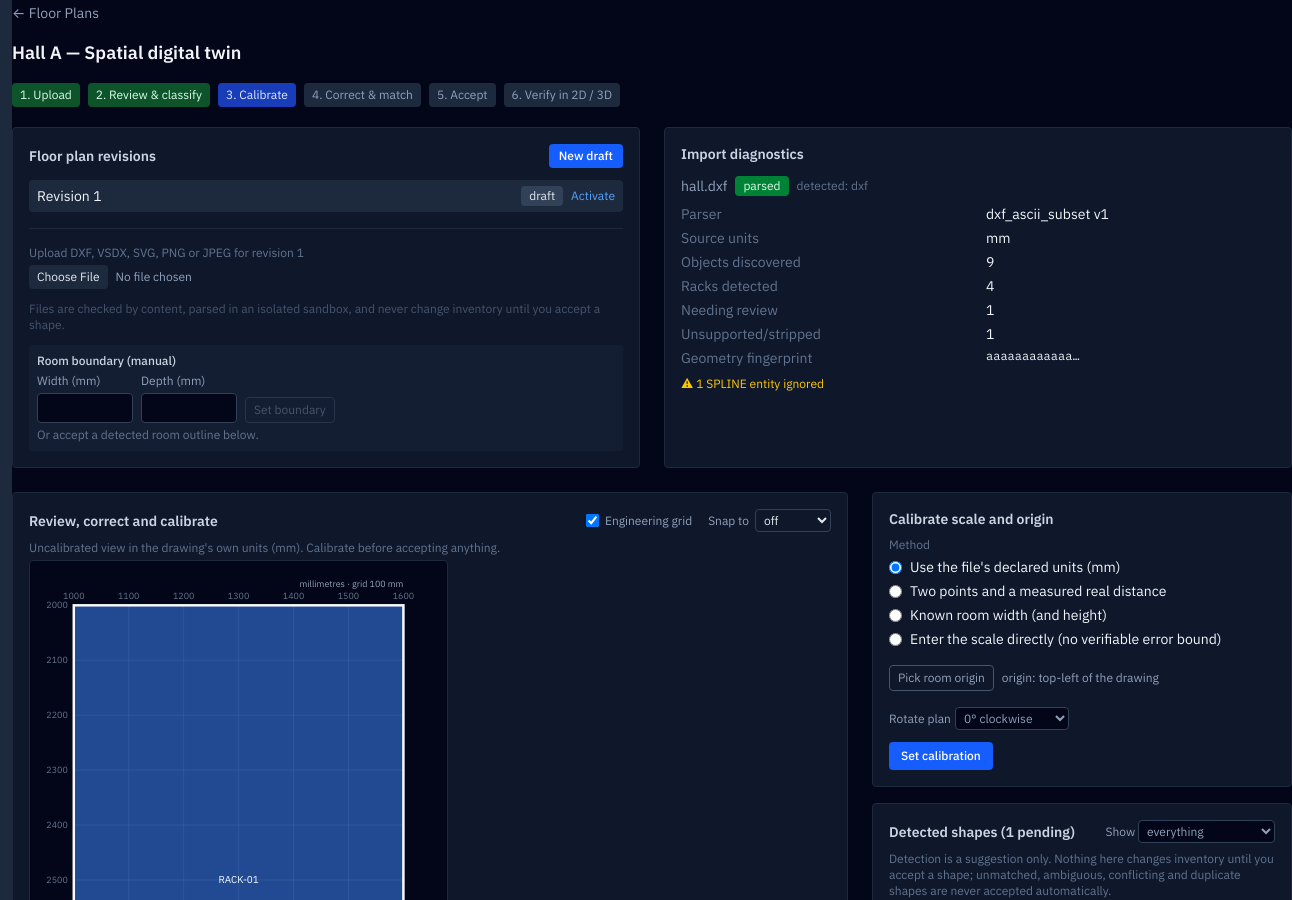
Test case: RoomFloorPlanPage workflow › calibrates with the declared units, with the floor plan's version as the concurrency token
Expected: the element with test id "calibration-panel" is shown, [872,492,1291,787]
Click the button "Set calibration".
click(941, 756)  # box [889,742,993,770]
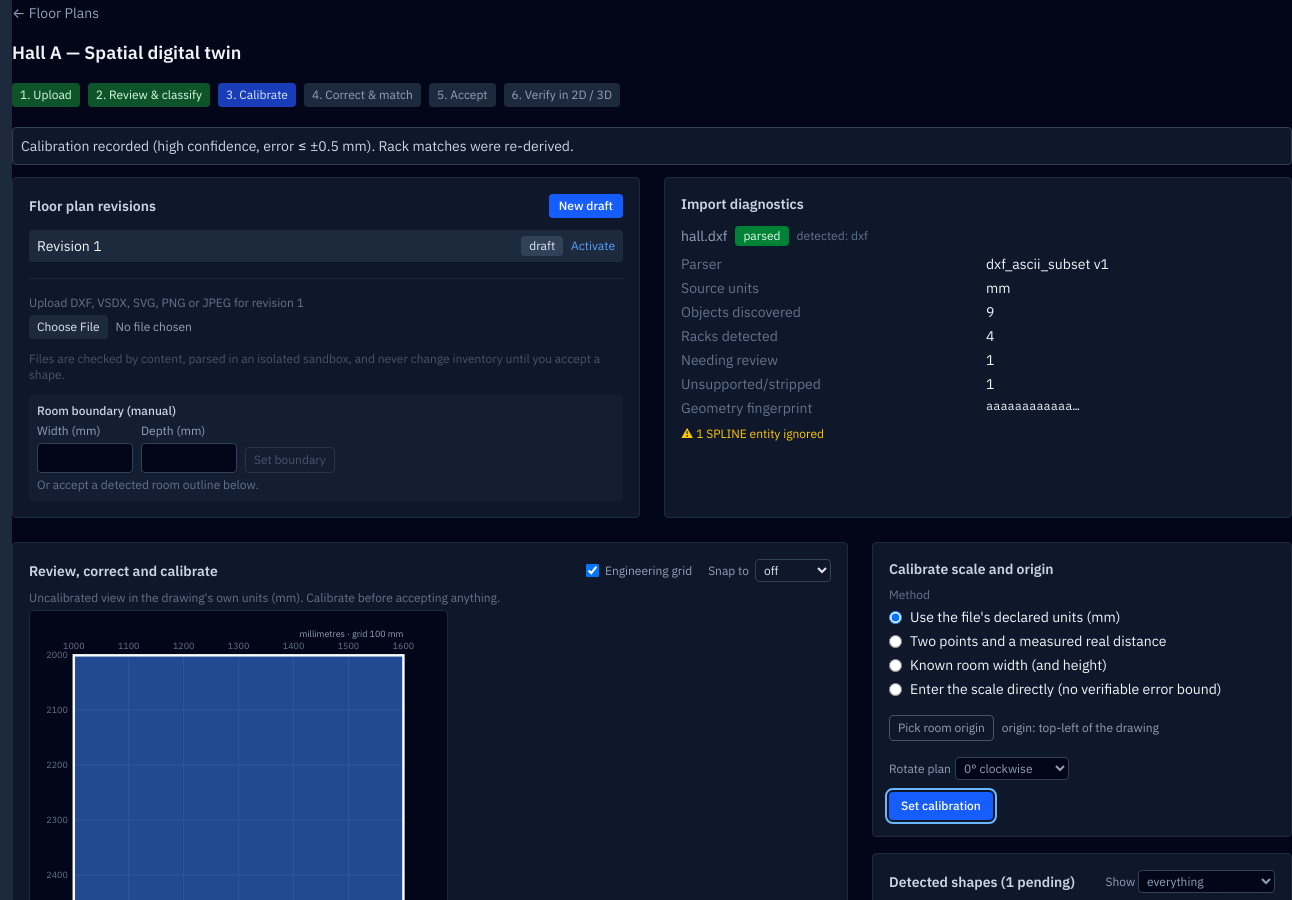
Result: the message with test id "notice" shows "Calibration recorded (high confidence, error ≤ ±0.5 mm)" at [21,137,574,155]
